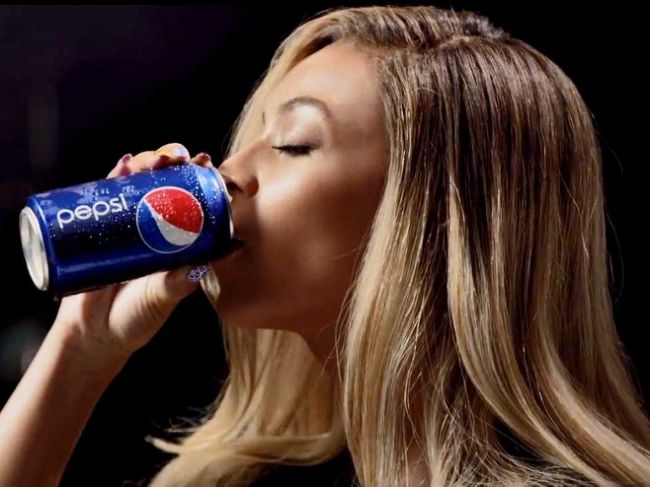pepsi: (131, 180, 200, 252), (131, 185, 200, 252), (134, 185, 200, 252)
